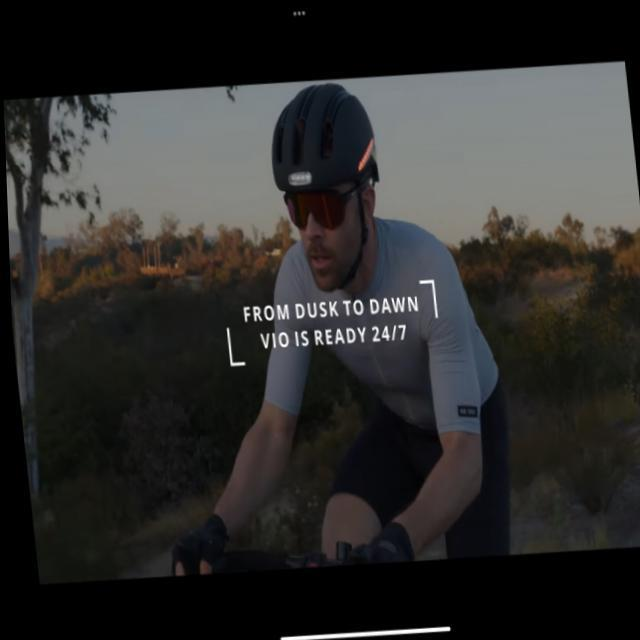Helmet: (258, 77, 391, 310)
